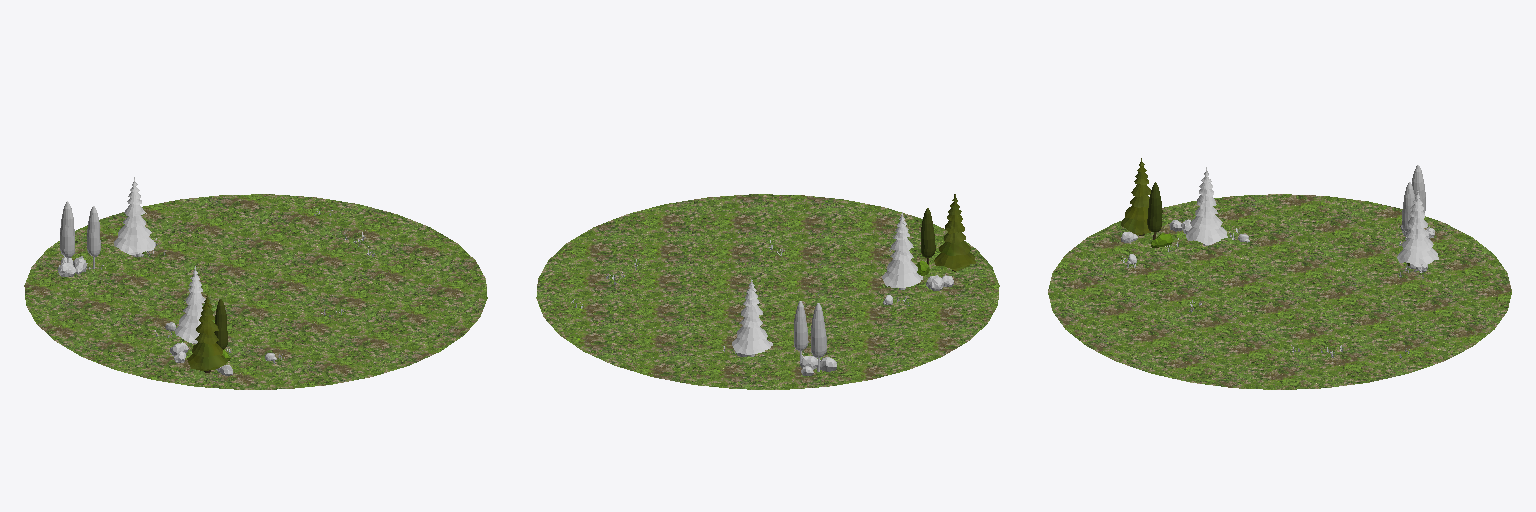
The picture shows the model from 3 angles: view 1: azimuth 30°, elevation 25°; view 2: azimuth 150°, elevation 25°; view 3: azimuth 270°, elevation 25°; orthographic projection.
Visible parts, largest first — view 1: Circle; view 2: Circle; view 3: Circle.
Boxes of the visible parts, x1,y1,x2,y2 form: Circle: [24, 177, 487, 389]; Circle: [536, 194, 999, 389]; Circle: [1048, 158, 1511, 389].
Bounding box in the file's own units: 28.36 × 5.56 × 28.36.
Materials: 65 (7 with a texture image).